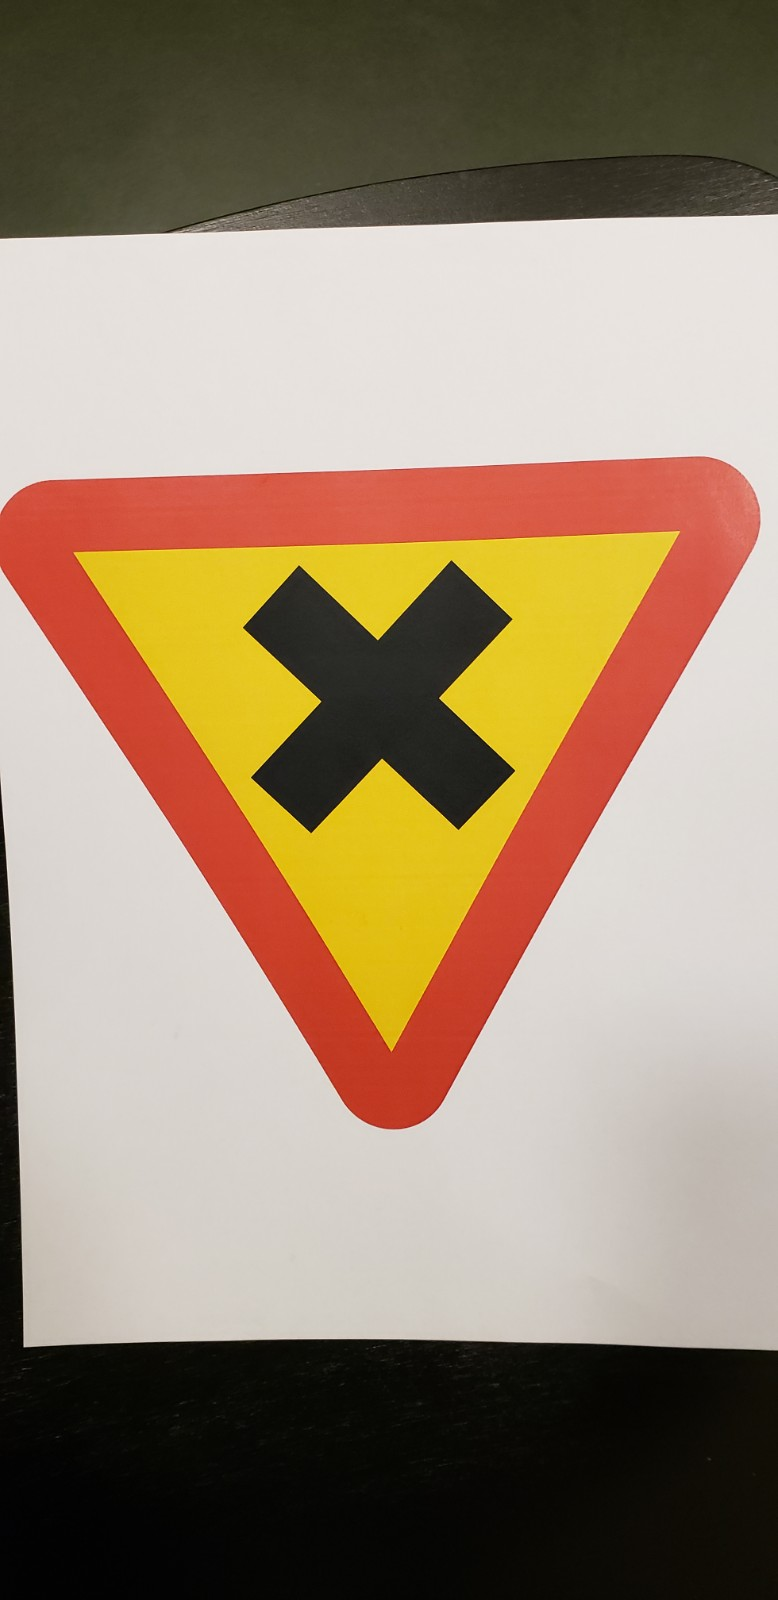junction: (15, 451, 778, 1189)
